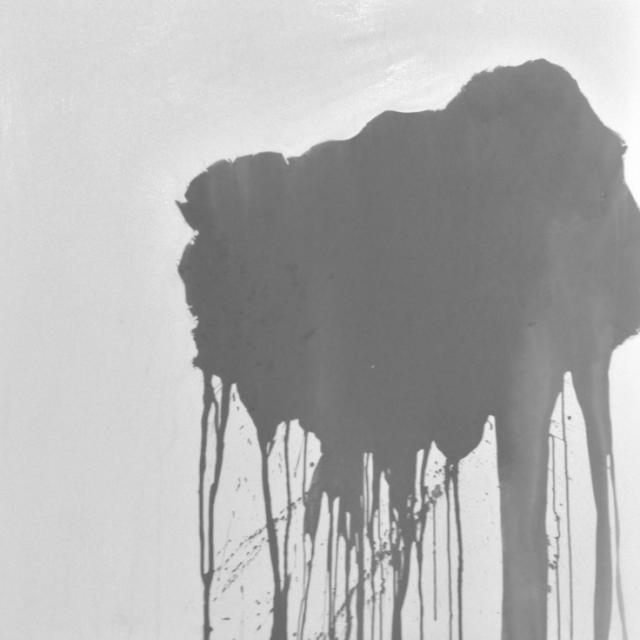paint drips: (175, 344, 639, 640)
